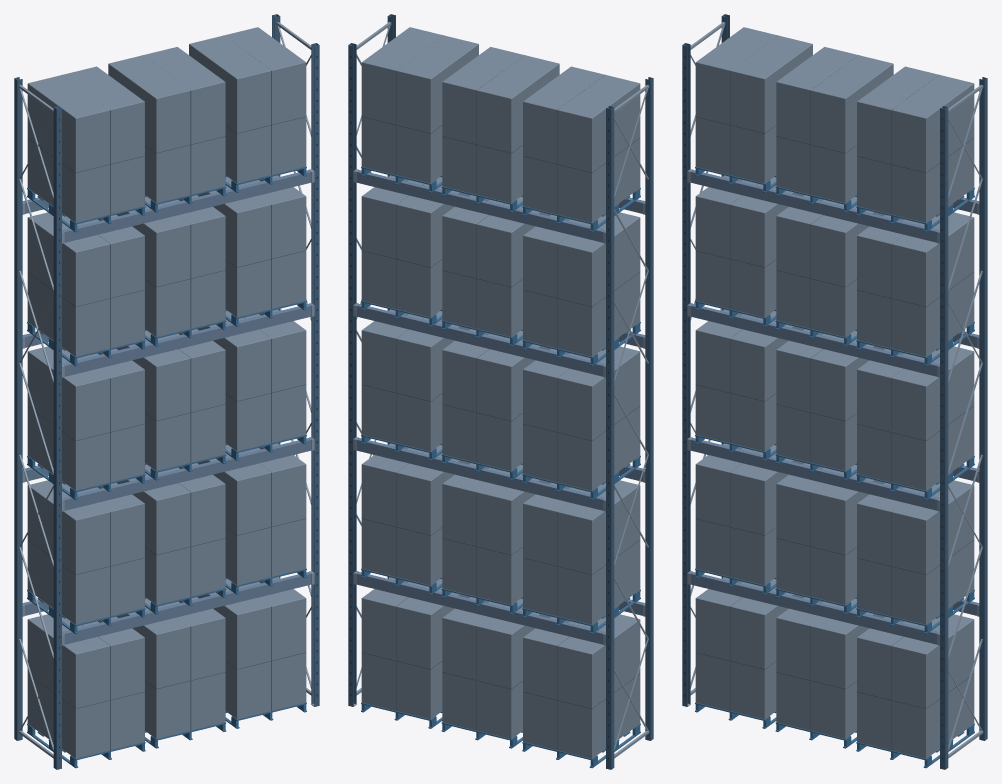
The model's file is SM_GHS_CADRack_D2.fbx.
3 renders of one model, left to right at view 1: azimuth 30°, elevation 25°; view 2: azimuth 150°, elevation 25°; view 3: azimuth 330°, elevation 25°, orthographic.
Parts seen in each view (by area): view 1: SM_GHS_CADRack_D2; view 2: SM_GHS_CADRack_D2; view 3: SM_GHS_CADRack_D2.
Part boxes in pixels (x1,y1,x2,y2): SM_GHS_CADRack_D2: (14, 14, 319, 769); SM_GHS_CADRack_D2: (348, 14, 653, 769); SM_GHS_CADRack_D2: (682, 14, 987, 769).
Size of the model in its own units: 381 by 122 by 914.
